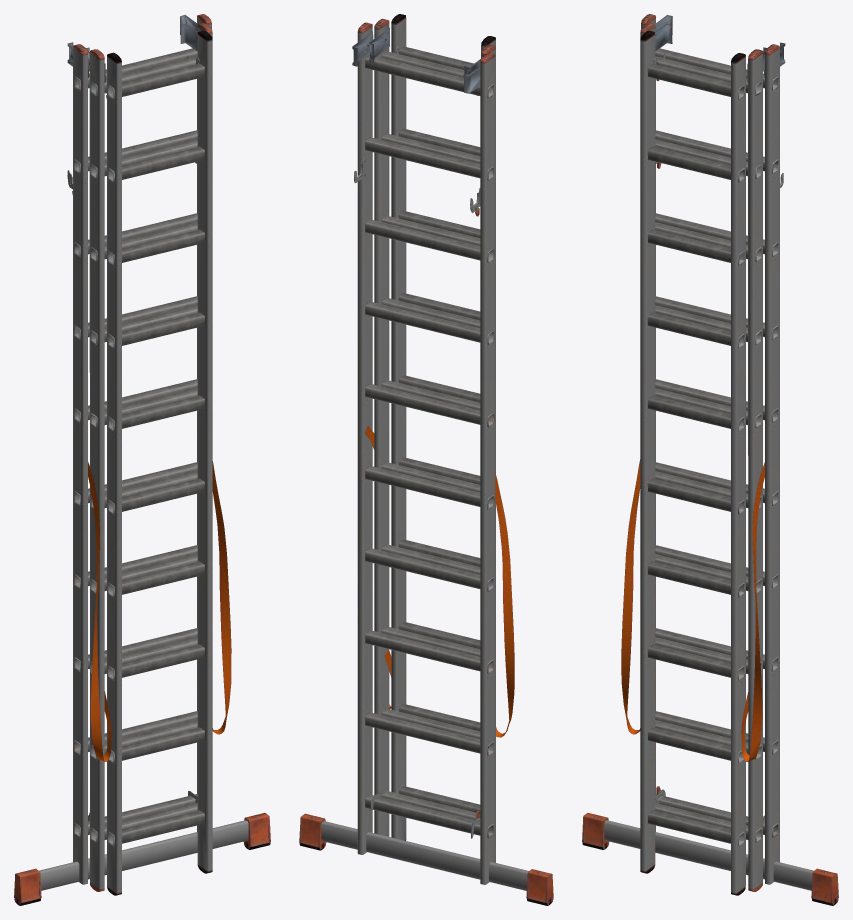
The model's file is ladder-sectioned.4e25c12f.glb.
The picture shows the model from 3 angles, left to right: view 1: azimuth 30°, elevation 25°; view 2: azimuth 150°, elevation 25°; view 3: azimuth 330°, elevation 25°; orthographic projection.
Visible parts, largest first — view 1: model; view 2: model; view 3: model.
Boxes of the visible parts, x1,y1,x2,y2 form: model: (14,14,270,905); model: (299,14,553,905); model: (582,14,838,905).
Bounding box in the file's own units: 0.6615 × 2.13 × 0.1776.
1 material, 1 textured.
